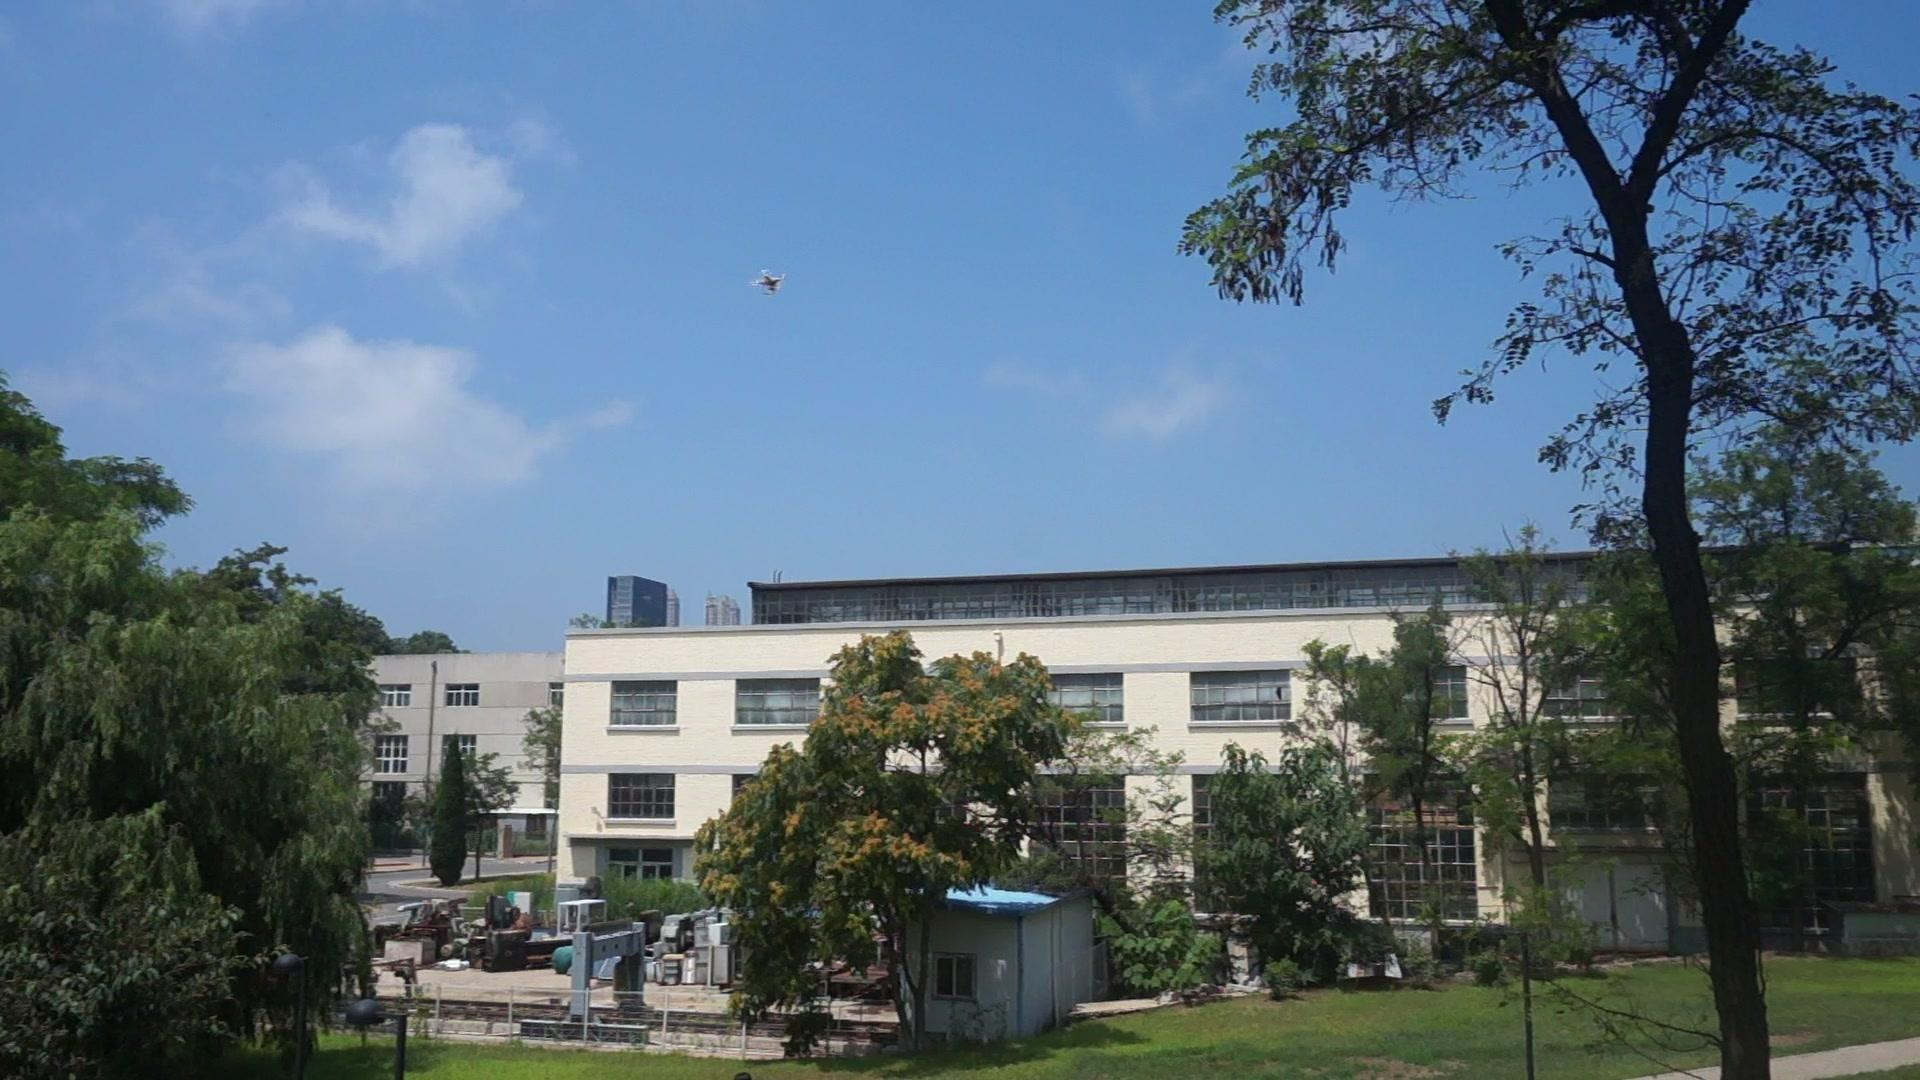UAV: (745, 269, 794, 297)
